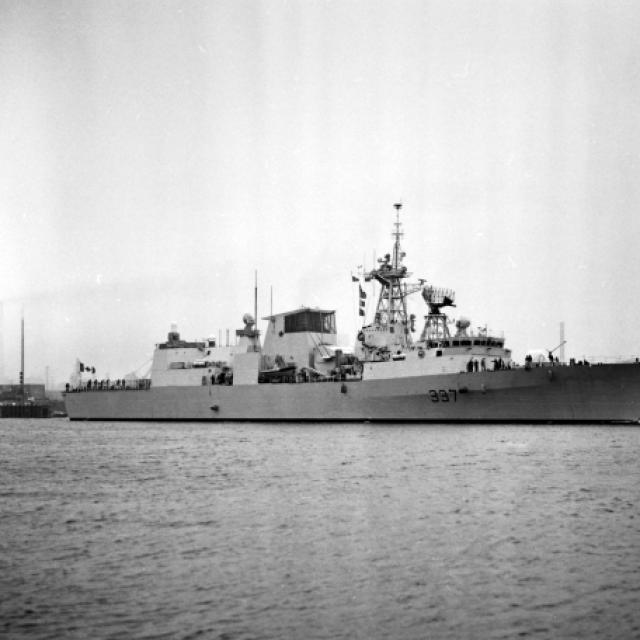Fragata: (54, 178, 640, 429)
